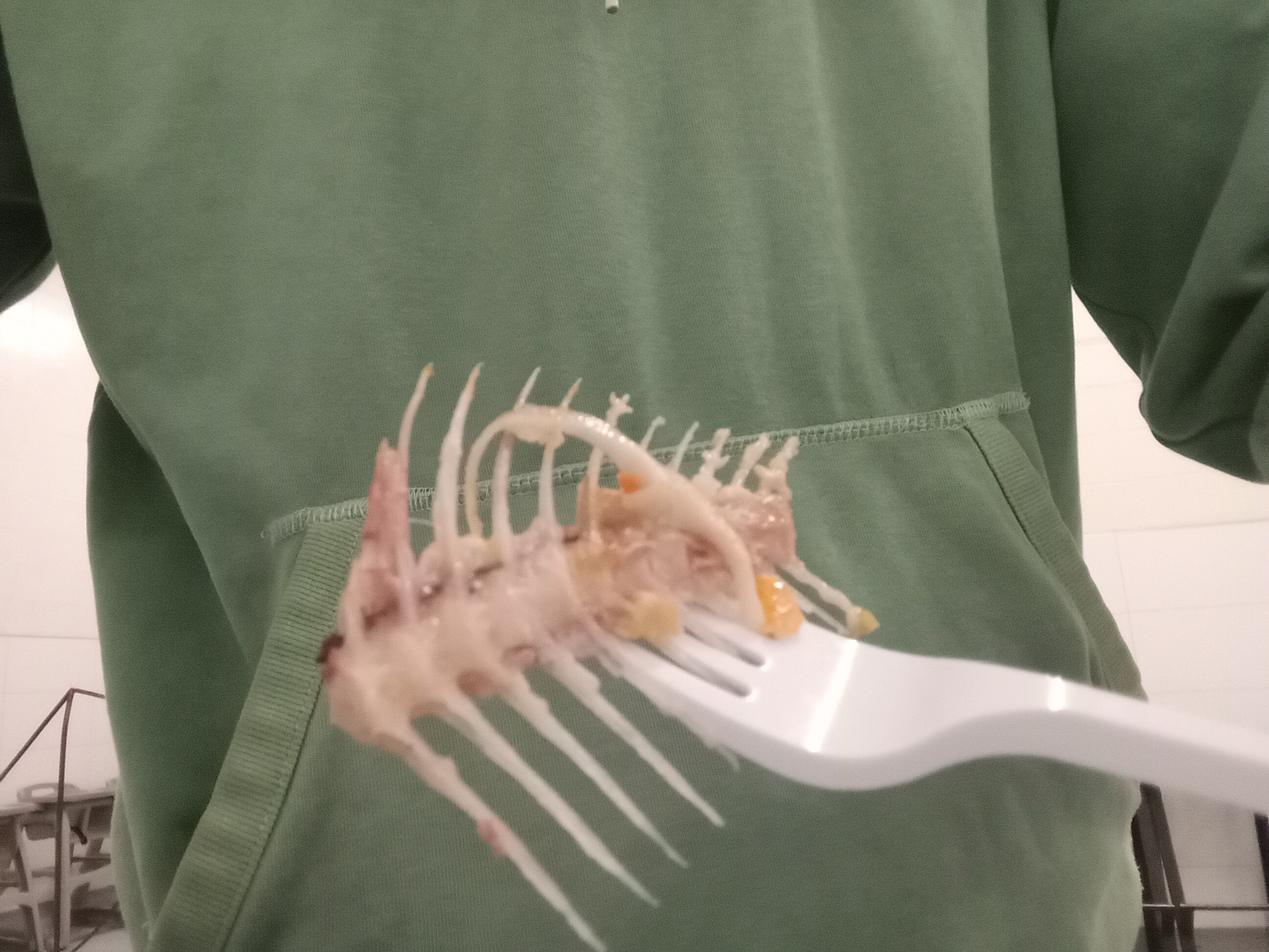Organico: (324, 361, 881, 952)
